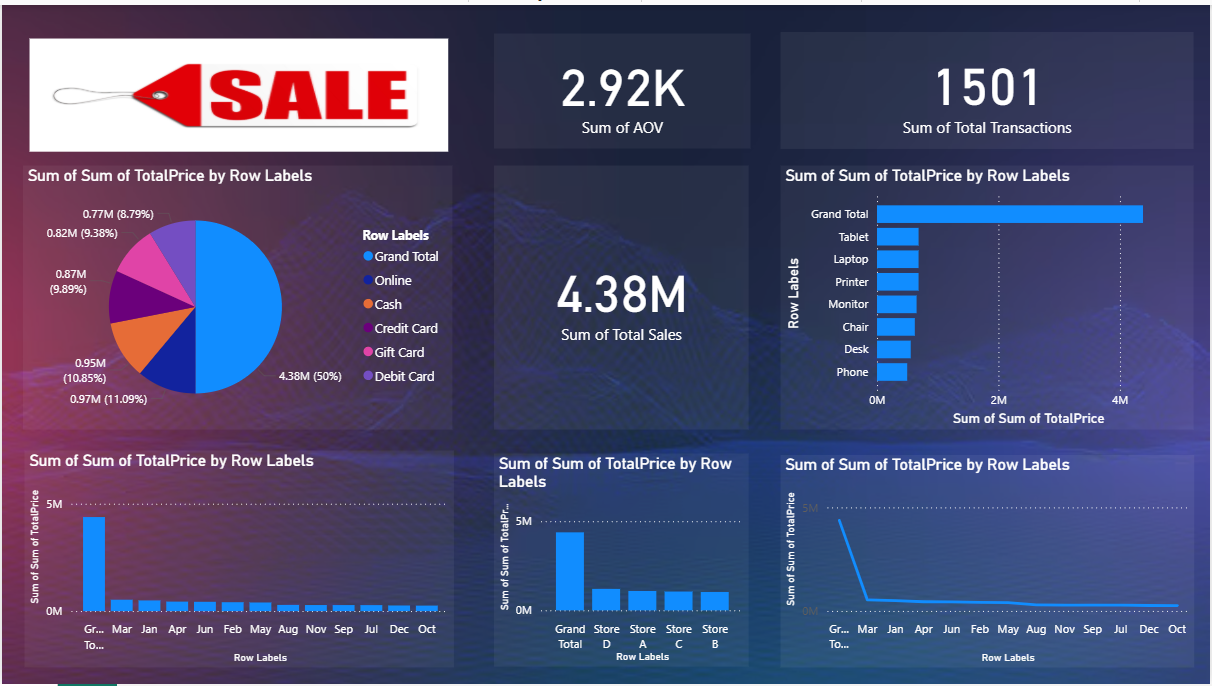

Layout of this report page (visuals, bound fields, positions):
{"tool":"powerbi","page":{"name":"Page 1","canvas":[1280,720],"ordinal":0},"visuals":[{"type":"pieChart","fields":{"Category":["pay method.Row Labels"],"Y":["Sum(pay method.Sum of TotalPrice)"]},"box":[21.7,170,455,280],"z":0},{"type":"card","fields":{"Values":["Sum(Sheet1.AOV)"]},"box":[522,30,272,122],"z":1},{"type":"card","fields":{"Values":["Sum(Sheet1.Total Transactions)"]},"box":[826,28,438,124],"z":2},{"type":"card","fields":{"Values":["Sum(Sheet1.Total Sales)"]},"box":[522,170,270,280],"z":3},{"type":"columnChart","fields":{"Category":["Peak month.Row Labels"],"Y":["Sum(Peak month.Sum of TotalPrice)"]},"box":[23.3,471.7,455,230],"z":4},{"type":"clusteredBarChart","fields":{"Category":["top product.Row Labels"],"Y":["Sum(top product.Sum of TotalPrice)"]},"box":[826,170,438,280],"z":5},{"type":"lineChart","fields":{"Category":["Peak month.Row Labels"],"Y":["Sum(Peak month.Sum of TotalPrice)"]},"box":[825,476.7,438.3,225],"z":6},{"type":"clusteredColumnChart","fields":{"Category":["store location.Row Labels"],"Y":["Sum(store location.Sum of TotalPrice)"]},"box":[522,476,270,226],"z":7},{"type":"image","box":[24,30,454,130],"z":8}]}

Visuals, with their boxes in screenshot pixels (x1, y1, x2, y2), scaled from the page's 1280x720 canvas onto the 1212x686 screenshot:
pieChart - pay method.Row Labels x Sum(pay method.Sum of TotalPrice): {"x1": 21, "y1": 162, "x2": 451, "y2": 429}
card - Sum(Sheet1.AOV): {"x1": 494, "y1": 29, "x2": 752, "y2": 145}
card - Sum(Sheet1.Total Transactions): {"x1": 782, "y1": 27, "x2": 1197, "y2": 145}
card - Sum(Sheet1.Total Sales): {"x1": 494, "y1": 162, "x2": 750, "y2": 429}
columnChart - Peak month.Row Labels x Sum(Peak month.Sum of TotalPrice): {"x1": 22, "y1": 449, "x2": 453, "y2": 669}
clusteredBarChart - top product.Row Labels x Sum(top product.Sum of TotalPrice): {"x1": 782, "y1": 162, "x2": 1197, "y2": 429}
lineChart - Peak month.Row Labels x Sum(Peak month.Sum of TotalPrice): {"x1": 781, "y1": 454, "x2": 1196, "y2": 669}
clusteredColumnChart - store location.Row Labels x Sum(store location.Sum of TotalPrice): {"x1": 494, "y1": 454, "x2": 750, "y2": 669}
image: {"x1": 23, "y1": 29, "x2": 453, "y2": 152}
